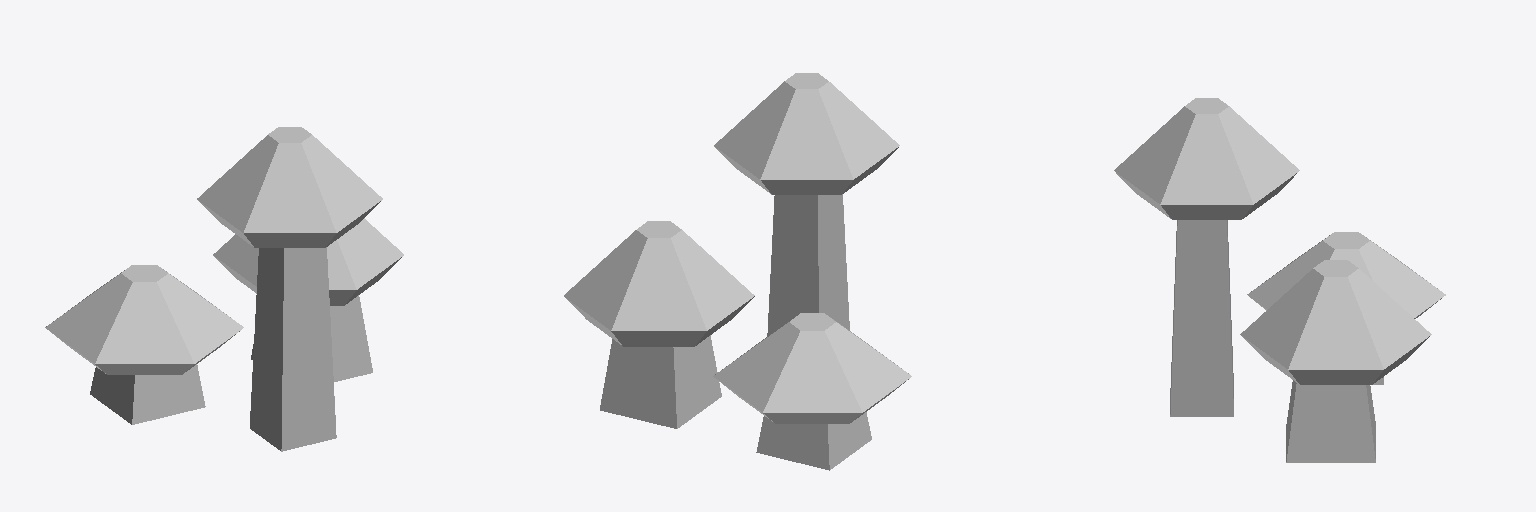
Rendered from mushroom_tanGroup.obj.
The picture shows the model from 3 angles: view 1: azimuth 30°, elevation 25°; view 2: azimuth 150°, elevation 25°; view 3: azimuth 270°, elevation 25°; orthographic projection.
Visible parts, largest first — view 1: mushroom_tanGroup; view 2: mushroom_tanGroup; view 3: mushroom_tanGroup.
Part boxes in pixels (left/top/right/bottom): mushroom_tanGroup: left=45, top=127, right=403, bottom=451; mushroom_tanGroup: left=564, top=73, right=911, bottom=470; mushroom_tanGroup: left=1114, top=98, right=1445, bottom=462.
Bounding box in the file's own units: 0.2696 × 0.2505 × 0.2542.